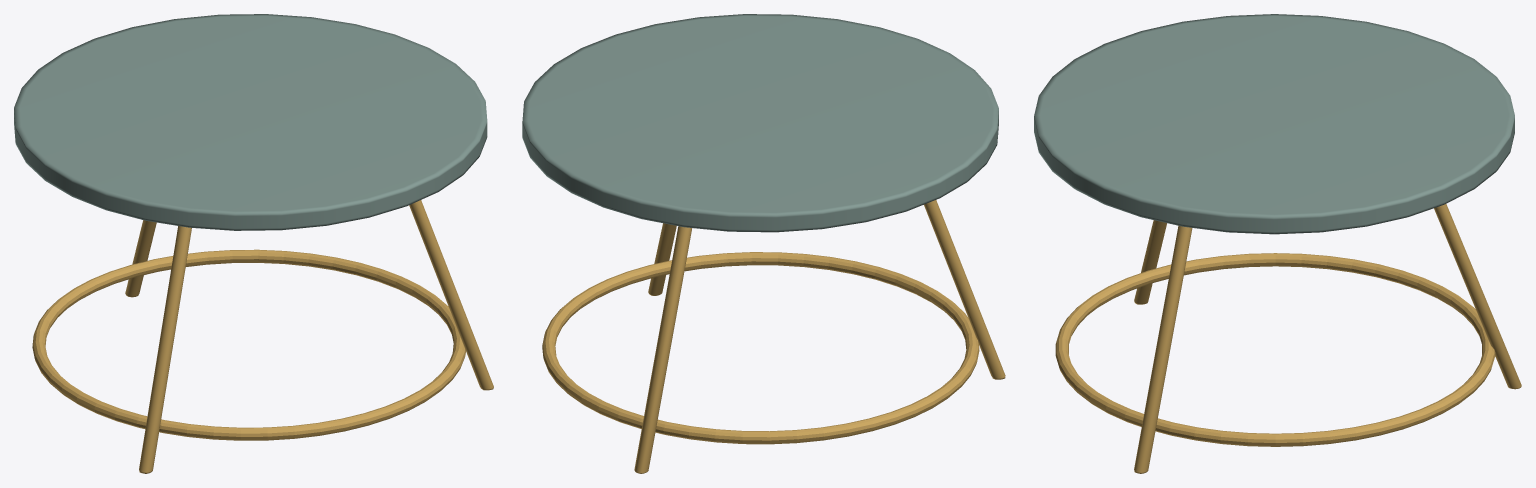
File: table_round.glb
The picture shows the model from 3 angles, left to right: view 1: azimuth 30°, elevation 25°; view 2: azimuth 150°, elevation 25°; view 3: azimuth 270°, elevation 25°; orthographic projection.
Parts seen in each view (by area): view 1: Torus; view 2: Torus; view 3: Torus.
Part boxes in pixels (x1=…): Torus: x1=14, y1=14, x2=493, y2=473; Torus: x1=522, y1=14, x2=1005, y2=473; Torus: x1=1034, y1=14, x2=1521, y2=473.
Bounding box in the file's own units: 0.9209 × 0.5728 × 0.9339.
